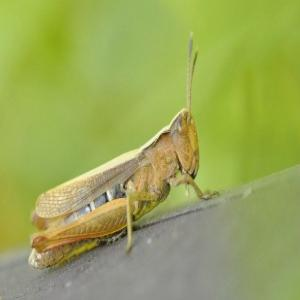locust: (26, 80, 204, 271)
